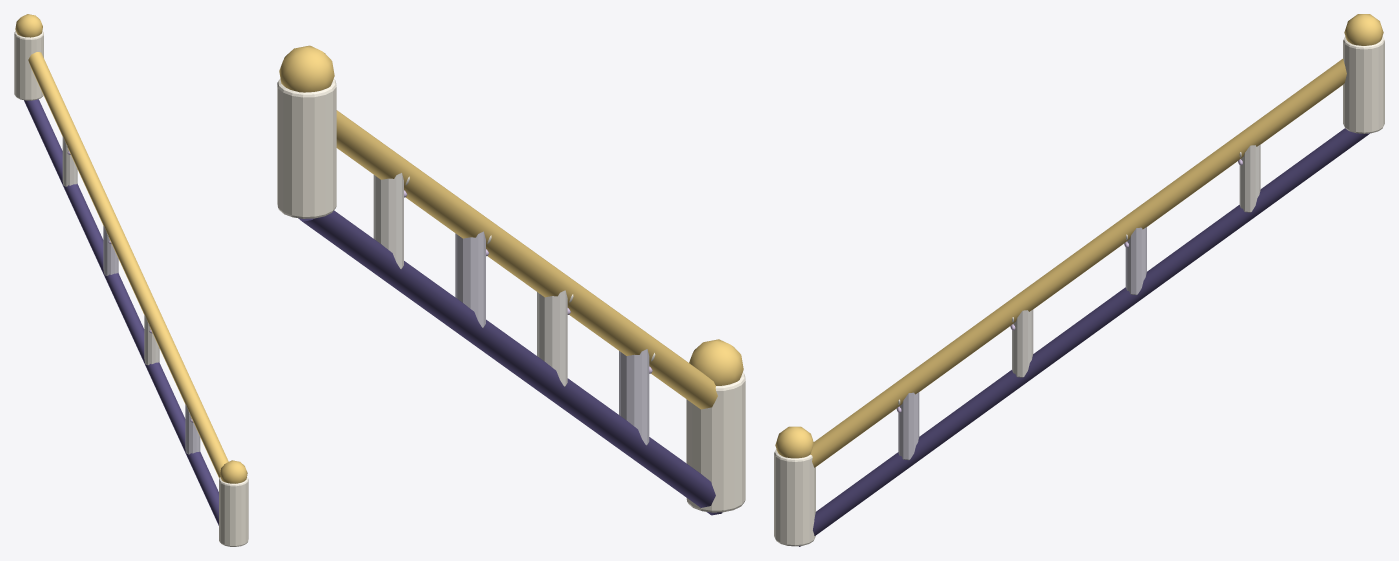
Rendered from pearl_stair_rail.glb.
3 renders of one model, left to right at view 1: azimuth 30°, elevation 25°; view 2: azimuth 150°, elevation 25°; view 3: azimuth 270°, elevation 25°, orthographic. The views are drawn at different scales.
Parts seen in each view (by area): view 1: pearl_stair_rail.001; view 2: pearl_stair_rail.001; view 3: pearl_stair_rail.001.
Part boxes in pixels (bbox=[...]): pearl_stair_rail.001: bbox=[14, 14, 248, 546]; pearl_stair_rail.001: bbox=[277, 45, 745, 515]; pearl_stair_rail.001: bbox=[774, 14, 1384, 546].
Bounding box in the file's own units: 1.1 × 15.45 × 16.1.
